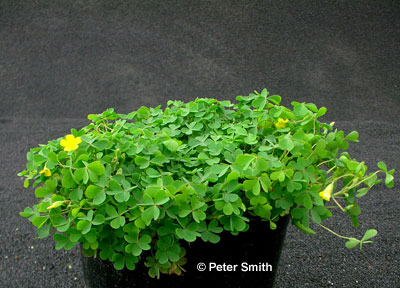oxalis: (33, 94, 365, 254)
